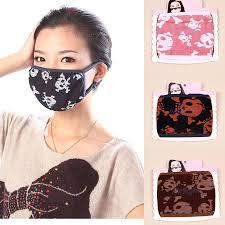OK: (27, 46, 90, 109)
